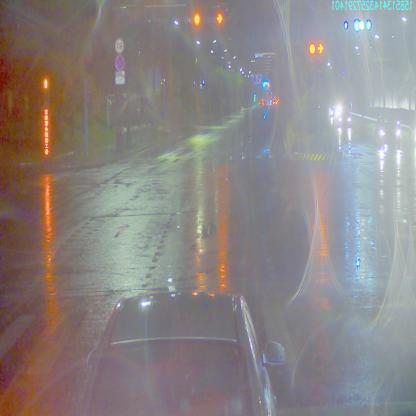traffic-light: (192, 14, 200, 35), (215, 9, 223, 26), (318, 39, 324, 53), (310, 43, 315, 56)
